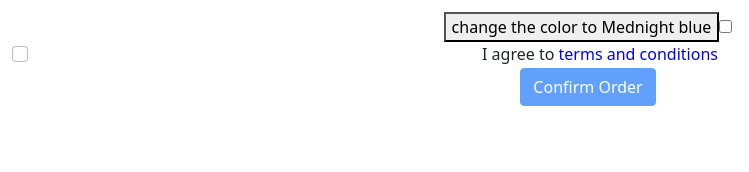
Test: check if button is disabled when checkbox is checked
What coordinates should you click on to do the following:
click the checkbox with test id "my-checkbox"
I would click on:
 (726, 26)
Its box is [719, 20, 732, 33].
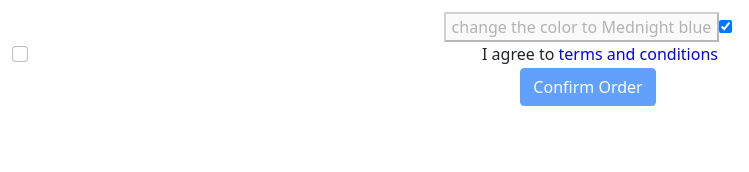
Expected: the button "change the color to Mednight blue" is disabled, [444, 12, 719, 42]
